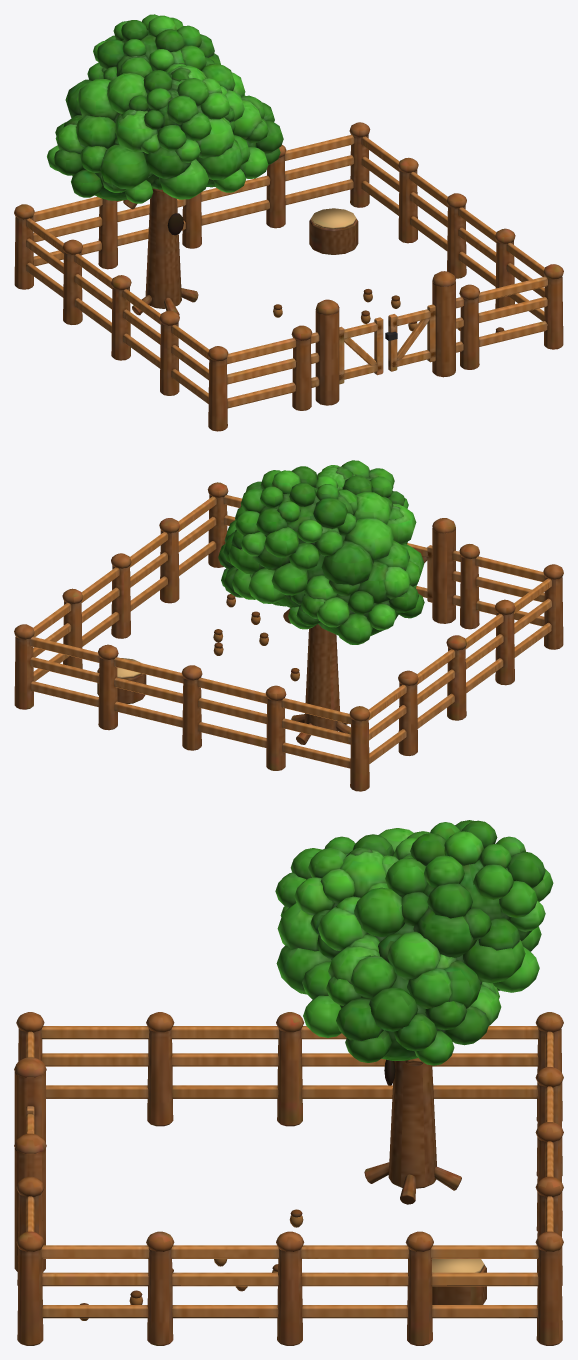
The model's file is squirrel_grove.glb.
3 views of the same model, one above another, from view 1: azimuth 30°, elevation 25°; view 2: azimuth 150°, elevation 25°; view 3: azimuth 270°, elevation 25° (orthographic). The views are drawn at different scales.
Parts seen in each view (by area): view 1: squirrel_grove, gate1, gate0; view 2: squirrel_grove, gate0; view 3: squirrel_grove.
Part boxes in pixels (<box>): squirrel_grove: <box>14,14,563,431</box>; gate1: <box>385,304,435,371</box>; gate0: <box>339,317,383,384</box>; squirrel_grove: <box>14,460,563,791</box>; gate0: <box>407,543,432,602</box>; squirrel_grove: <box>14,820,563,1345</box>.
Size of the model in its own units: 2.02 by 1.47 by 2.01.
1 material, 1 textured.
